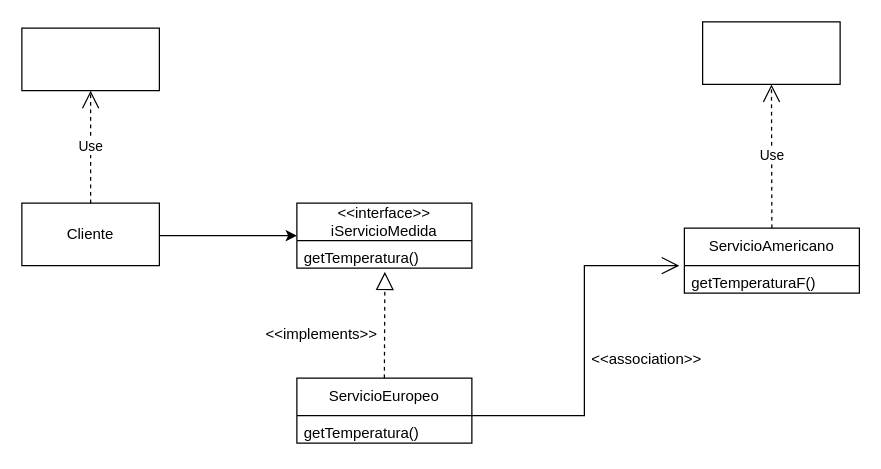
The diagram is 881 pixels wide and 469 high, and some of its shapes have lost their labels. The shapes that lost their labels are listed below. From the top down, each one's centre as x and y in pixels, then its label:
At (x=90, y=59): "Flask".
At (x=770, y=52): "OpenMeteo API".
